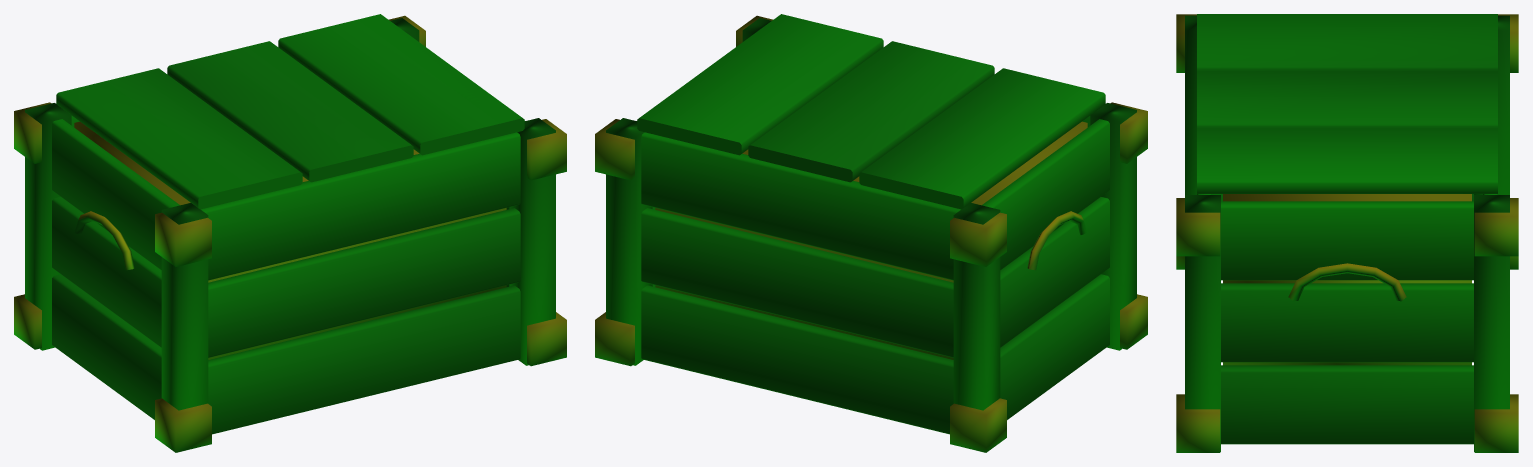
File: liss_crate.glb
The picture shows the model from 3 angles, left to right: view 1: azimuth 30°, elevation 25°; view 2: azimuth 150°, elevation 25°; view 3: azimuth 270°, elevation 25°; orthographic projection. The views are drawn at different scales.
Visible parts, largest first — view 1: liss_crate; view 2: liss_crate; view 3: liss_crate.
Boxes of the visible parts, bbox=[...] form: liss_crate: bbox=[14, 14, 566, 452]; liss_crate: bbox=[595, 14, 1147, 452]; liss_crate: bbox=[1176, 14, 1518, 452].
Size of what is drawn, in the model's own units: 0.7049 by 0.4186 by 0.5049.
